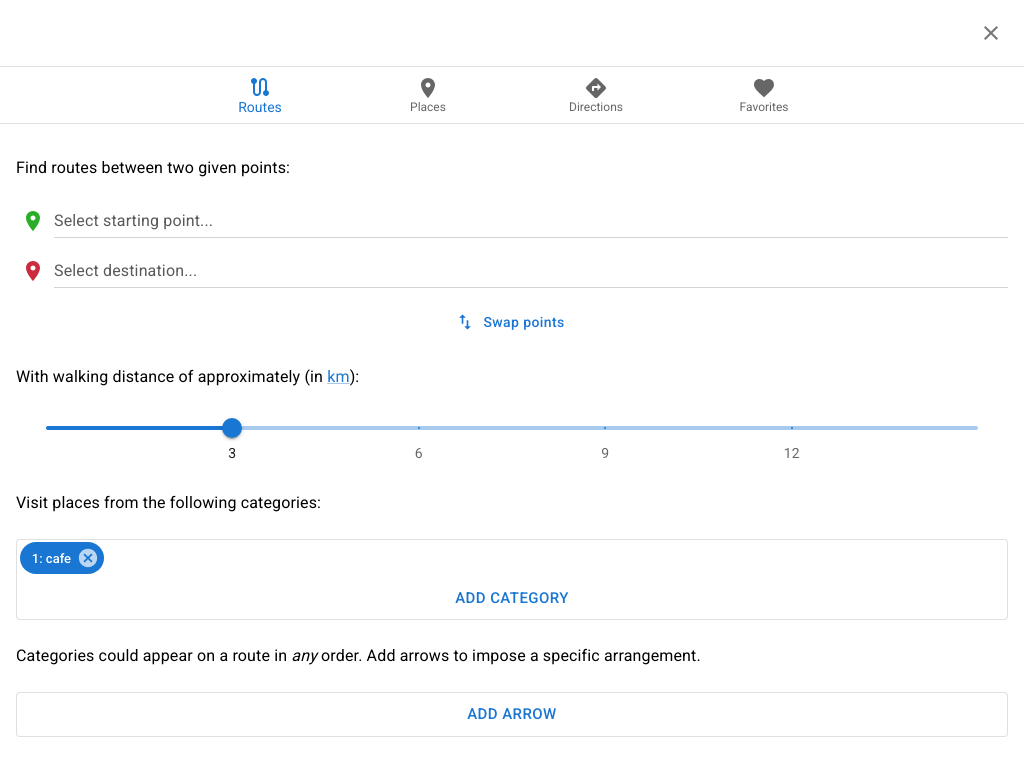
it: <SearchRoutesPanel /> › categories › should discard filter changes if not confirmed
Click the button "1: cafe".
click(62, 558)  # box top-left (20, 542), bottom-right (104, 574)
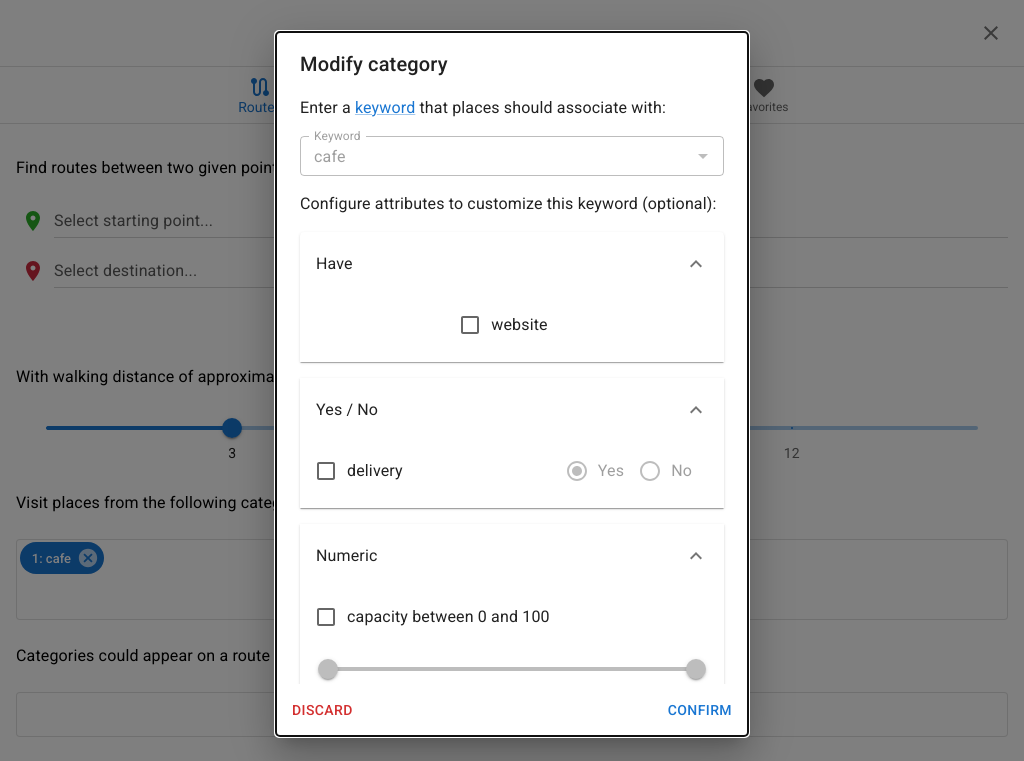
Expected: the checkbox labelled "website" is not checked
Click the checkbox labelled "website".
click(503, 325)  # box top-left (458, 313), bottom-right (548, 337)
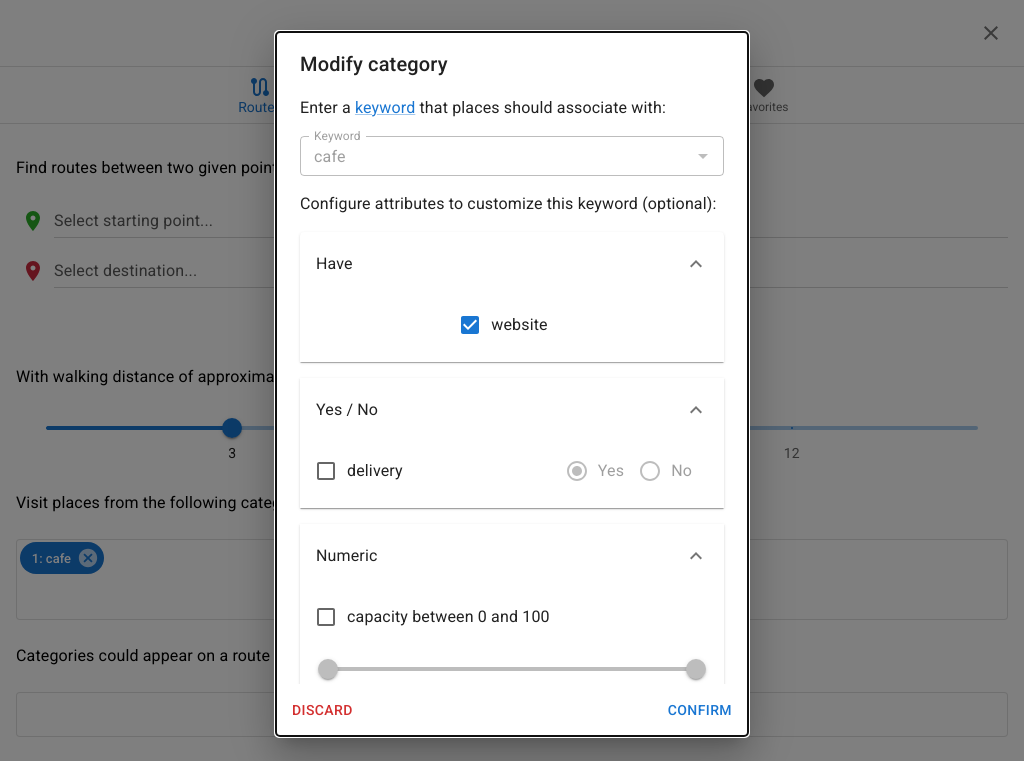
Expected: the checkbox labelled "website" is checked, top-left (458, 313), bottom-right (548, 337)
Click the button "Discard".
click(322, 710)  # box top-left (284, 692), bottom-right (361, 728)
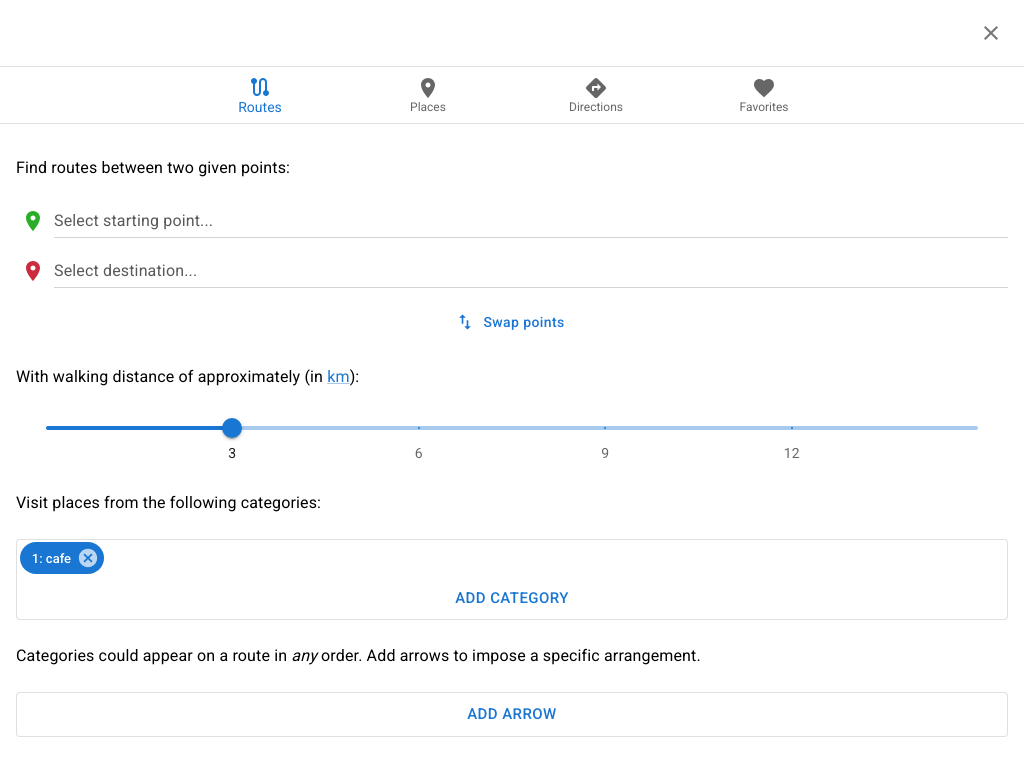
Click the button "1: cafe".
click(62, 558)  # box top-left (20, 542), bottom-right (104, 574)
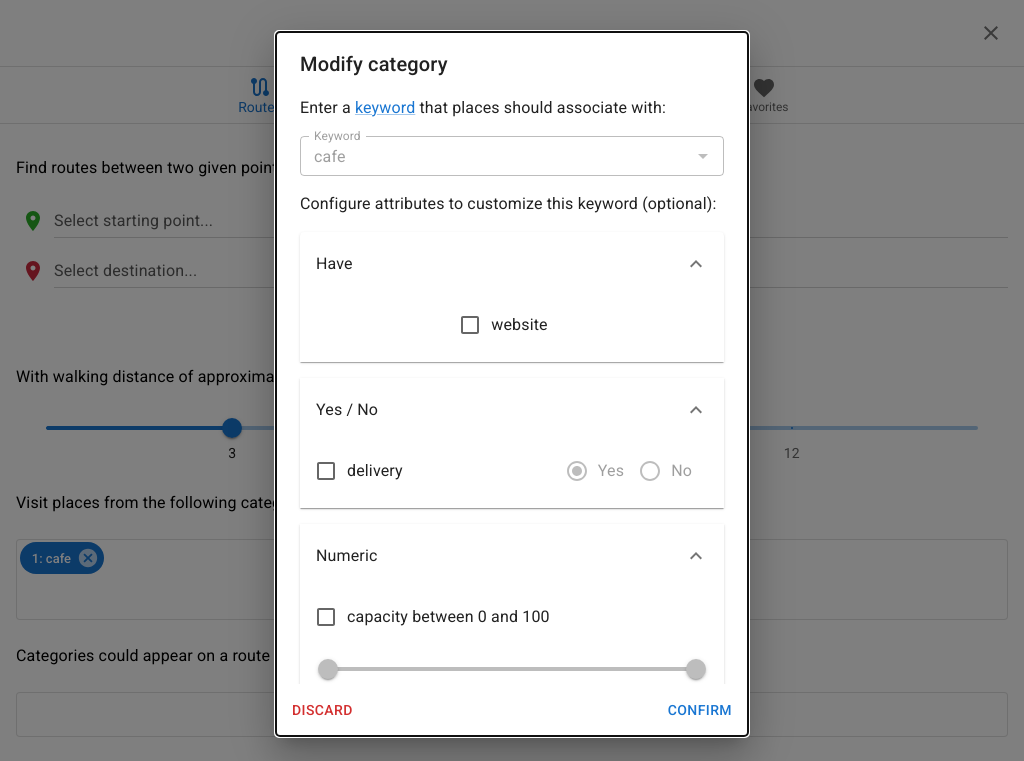
Expected: the checkbox labelled "website" is not checked, top-left (458, 313), bottom-right (548, 337)
